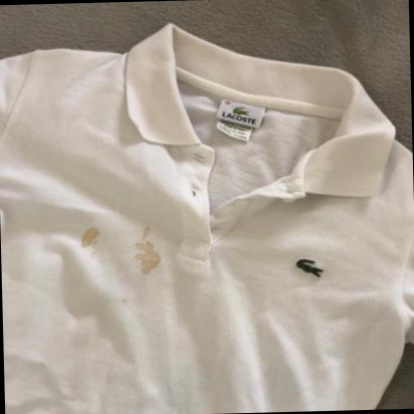coffee: (137, 240, 161, 274), (80, 228, 98, 247)
